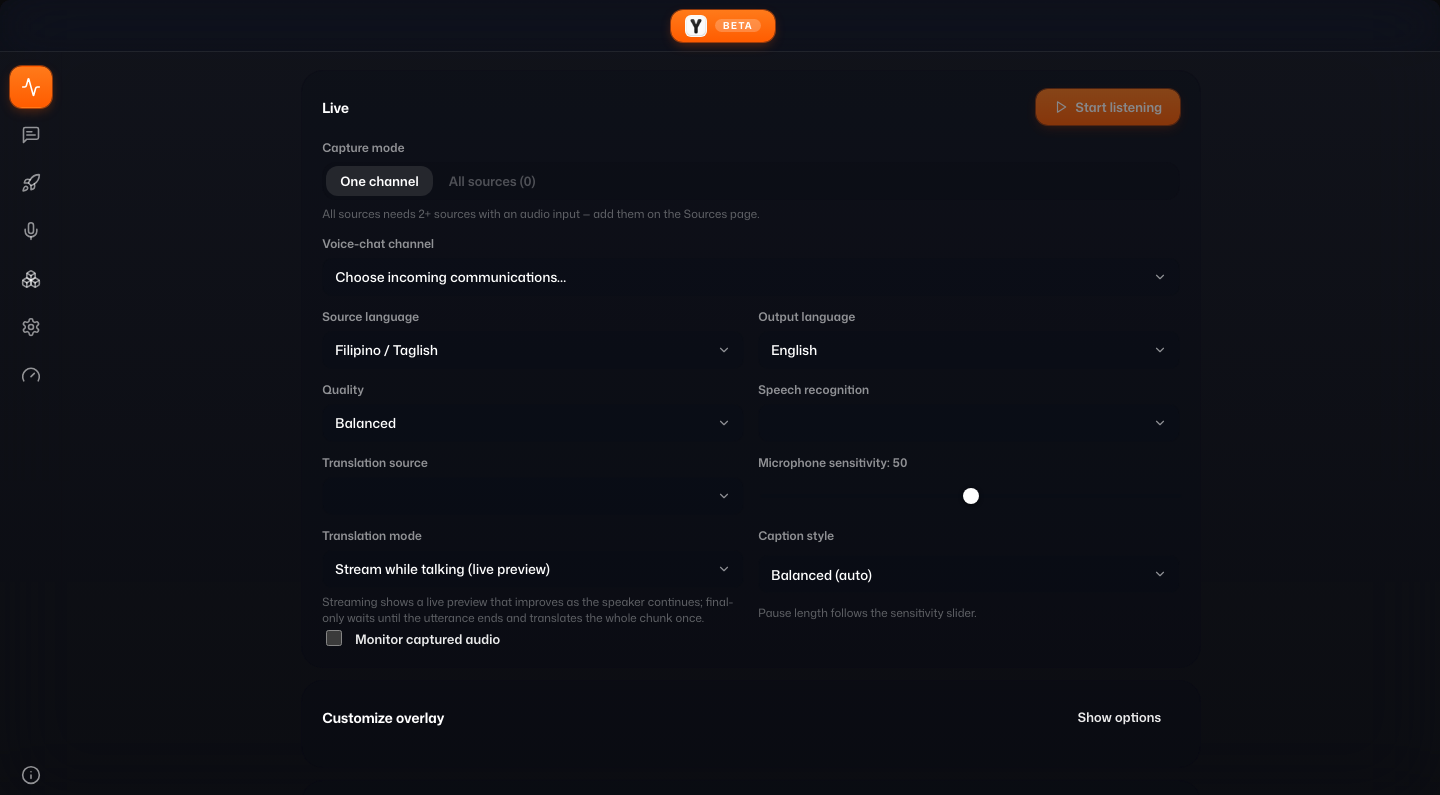
Test: control window › requires explicit endpoint selection before starting the meter
Step 1. Click the button named "Diagnostics" → coordinates (30, 375), box [10, 354, 52, 396]
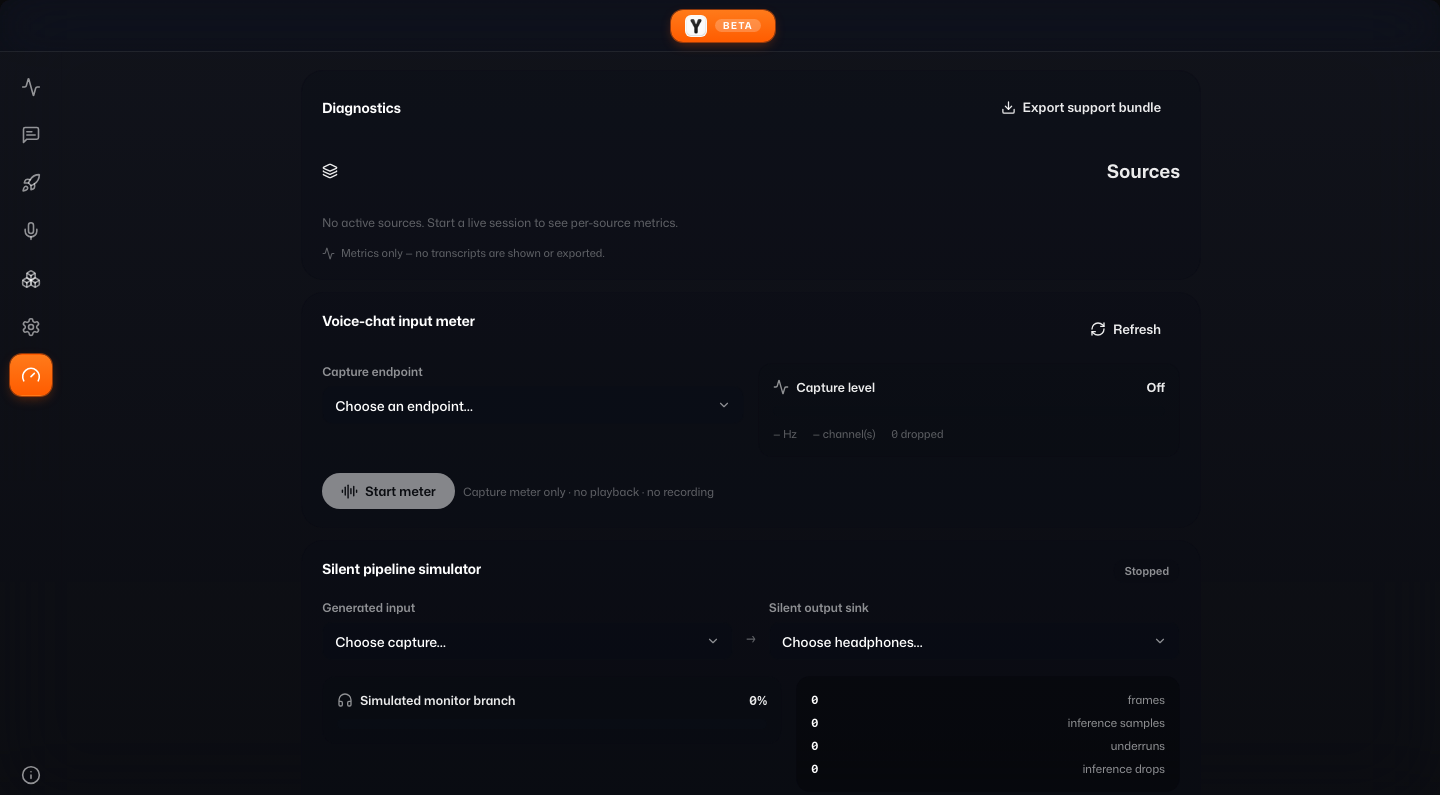
Result: the button "Start meter" is disabled at [322, 473, 455, 509]
Step 2. Click the dropdown named "Capture endpoint" → coordinates (404, 405), box [322, 386, 744, 424]
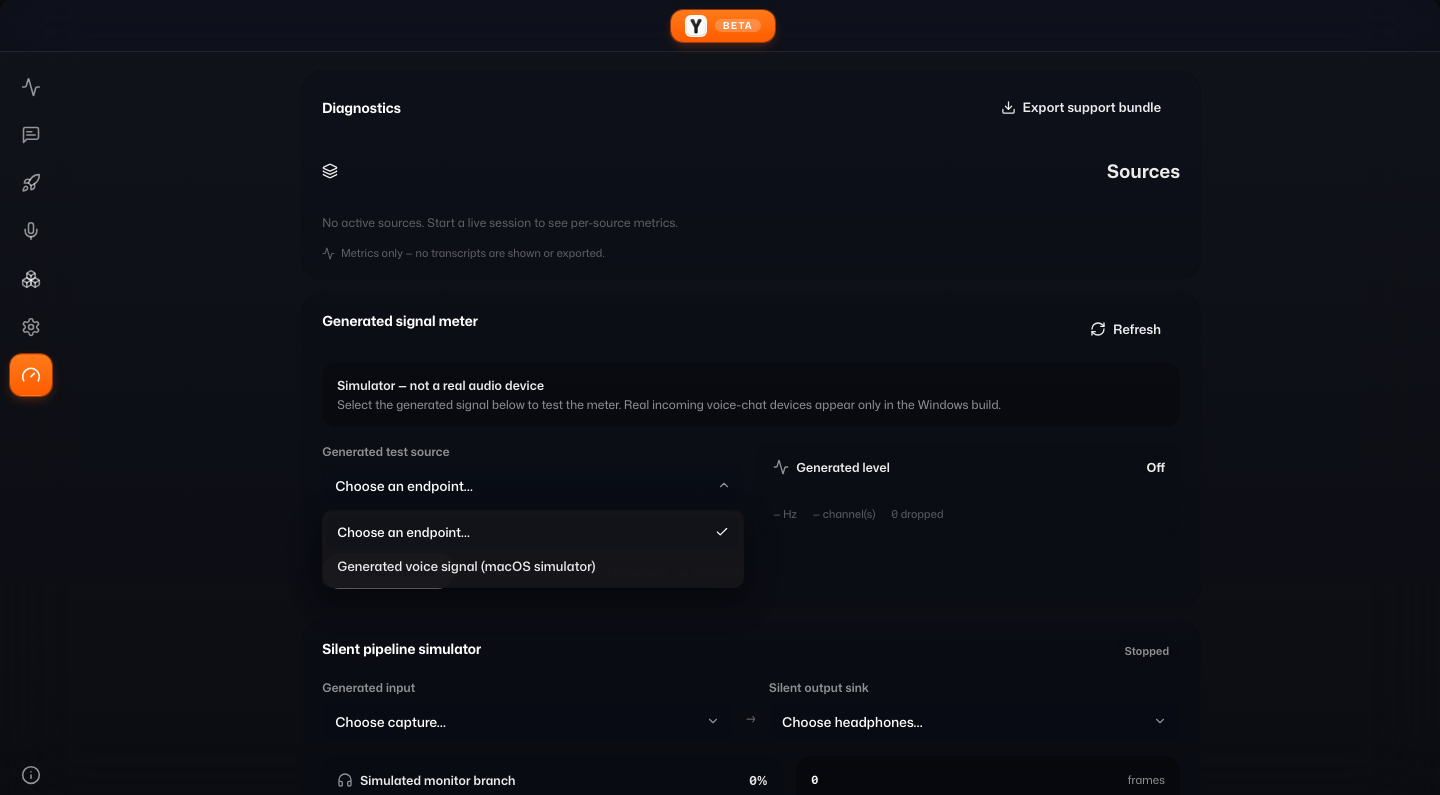
Step 3. Click the option "Generated voice signal (macOS simulator)" → coordinates (466, 566), box [337, 557, 596, 575]
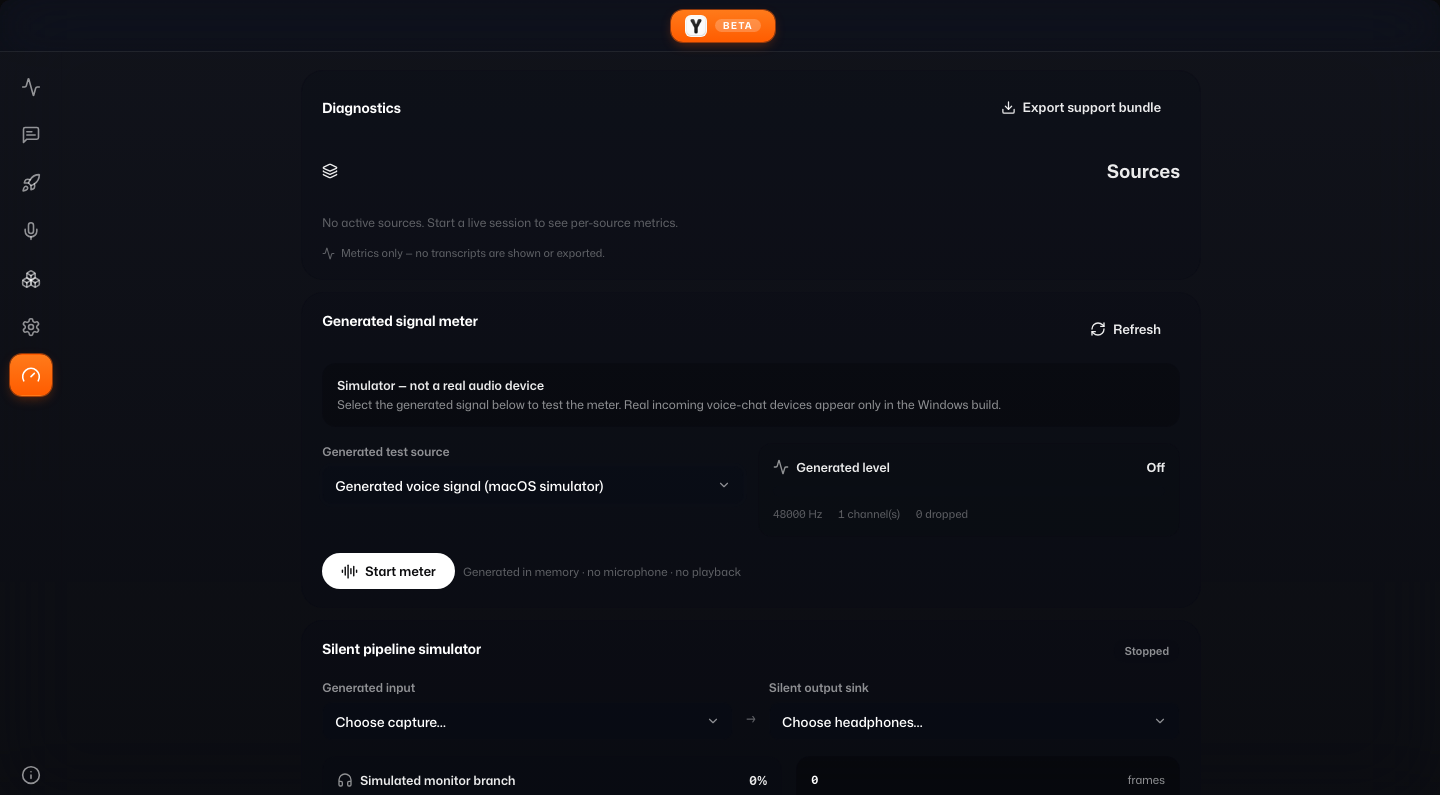
Result: the button "Start meter" is enabled
Step 4. Click the button "Start meter" → coordinates (388, 571), box [322, 553, 455, 589]
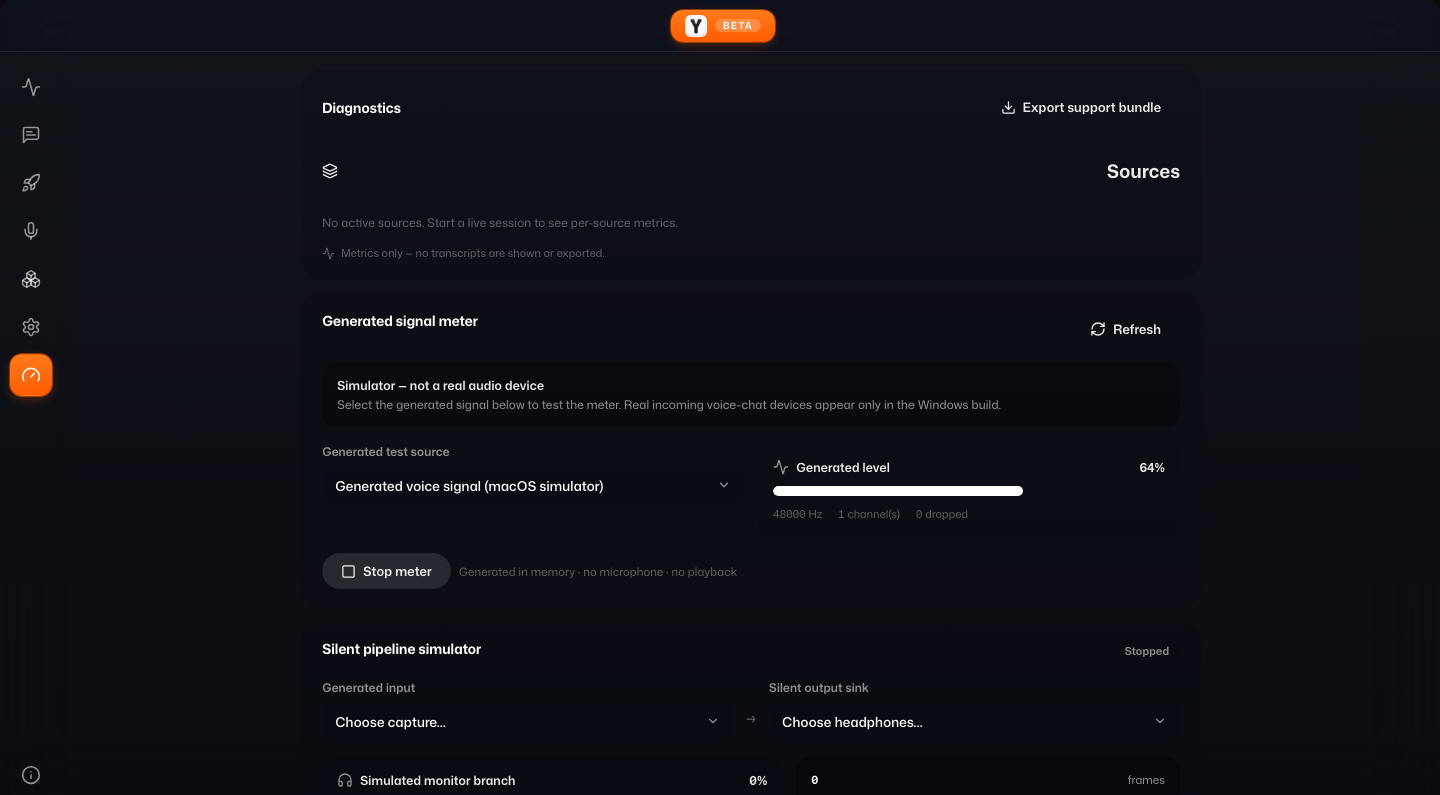
Result: the button "Stop meter" is shown at [322, 553, 451, 589]
